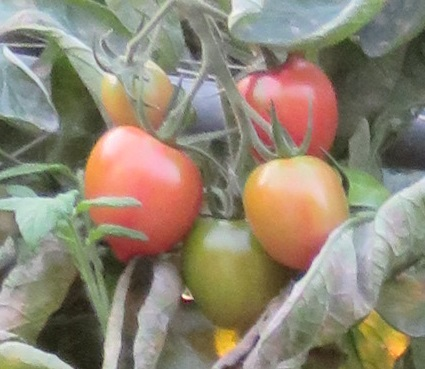green: (182, 206, 286, 331)
orange: (87, 123, 205, 259), (246, 156, 348, 271), (95, 66, 176, 126)
red: (231, 62, 341, 156)
